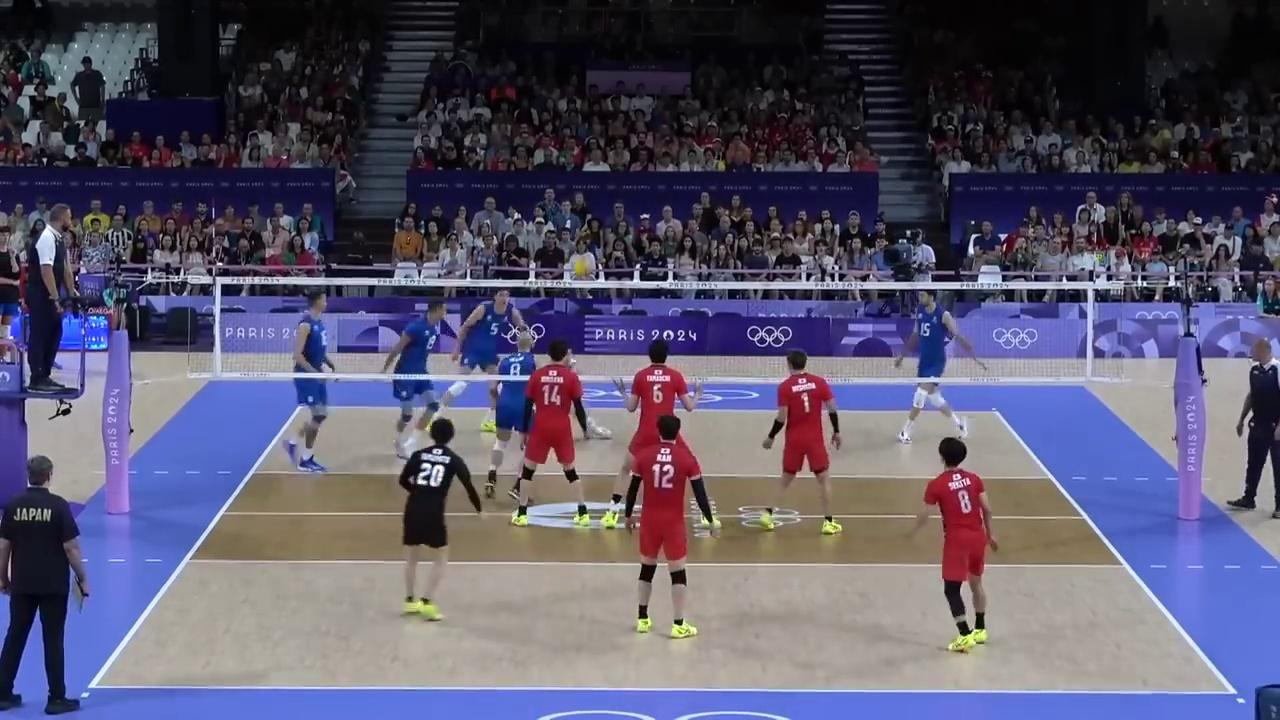ball: (574, 258, 590, 277)
